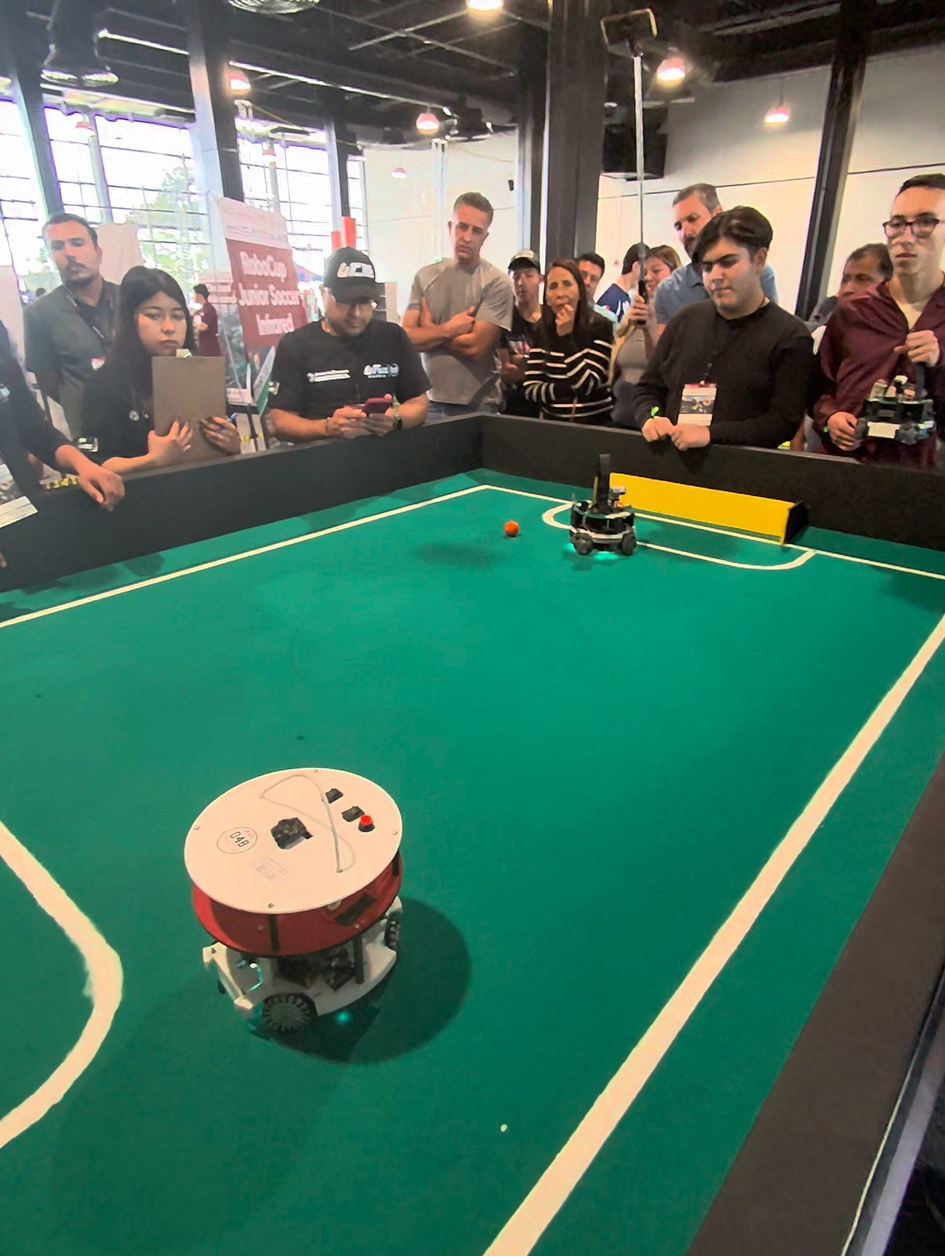Robot: (181, 742, 414, 1064), (570, 452, 643, 567)
pelota: (505, 522, 520, 538)
